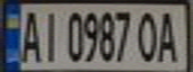0: (60, 7, 84, 63)
7: (112, 7, 136, 63)
8: (97, 7, 118, 62)
9: (81, 7, 100, 63)
A: (15, 7, 45, 64), (154, 7, 184, 63)
I: (36, 7, 60, 63)
O: (136, 7, 163, 63)
